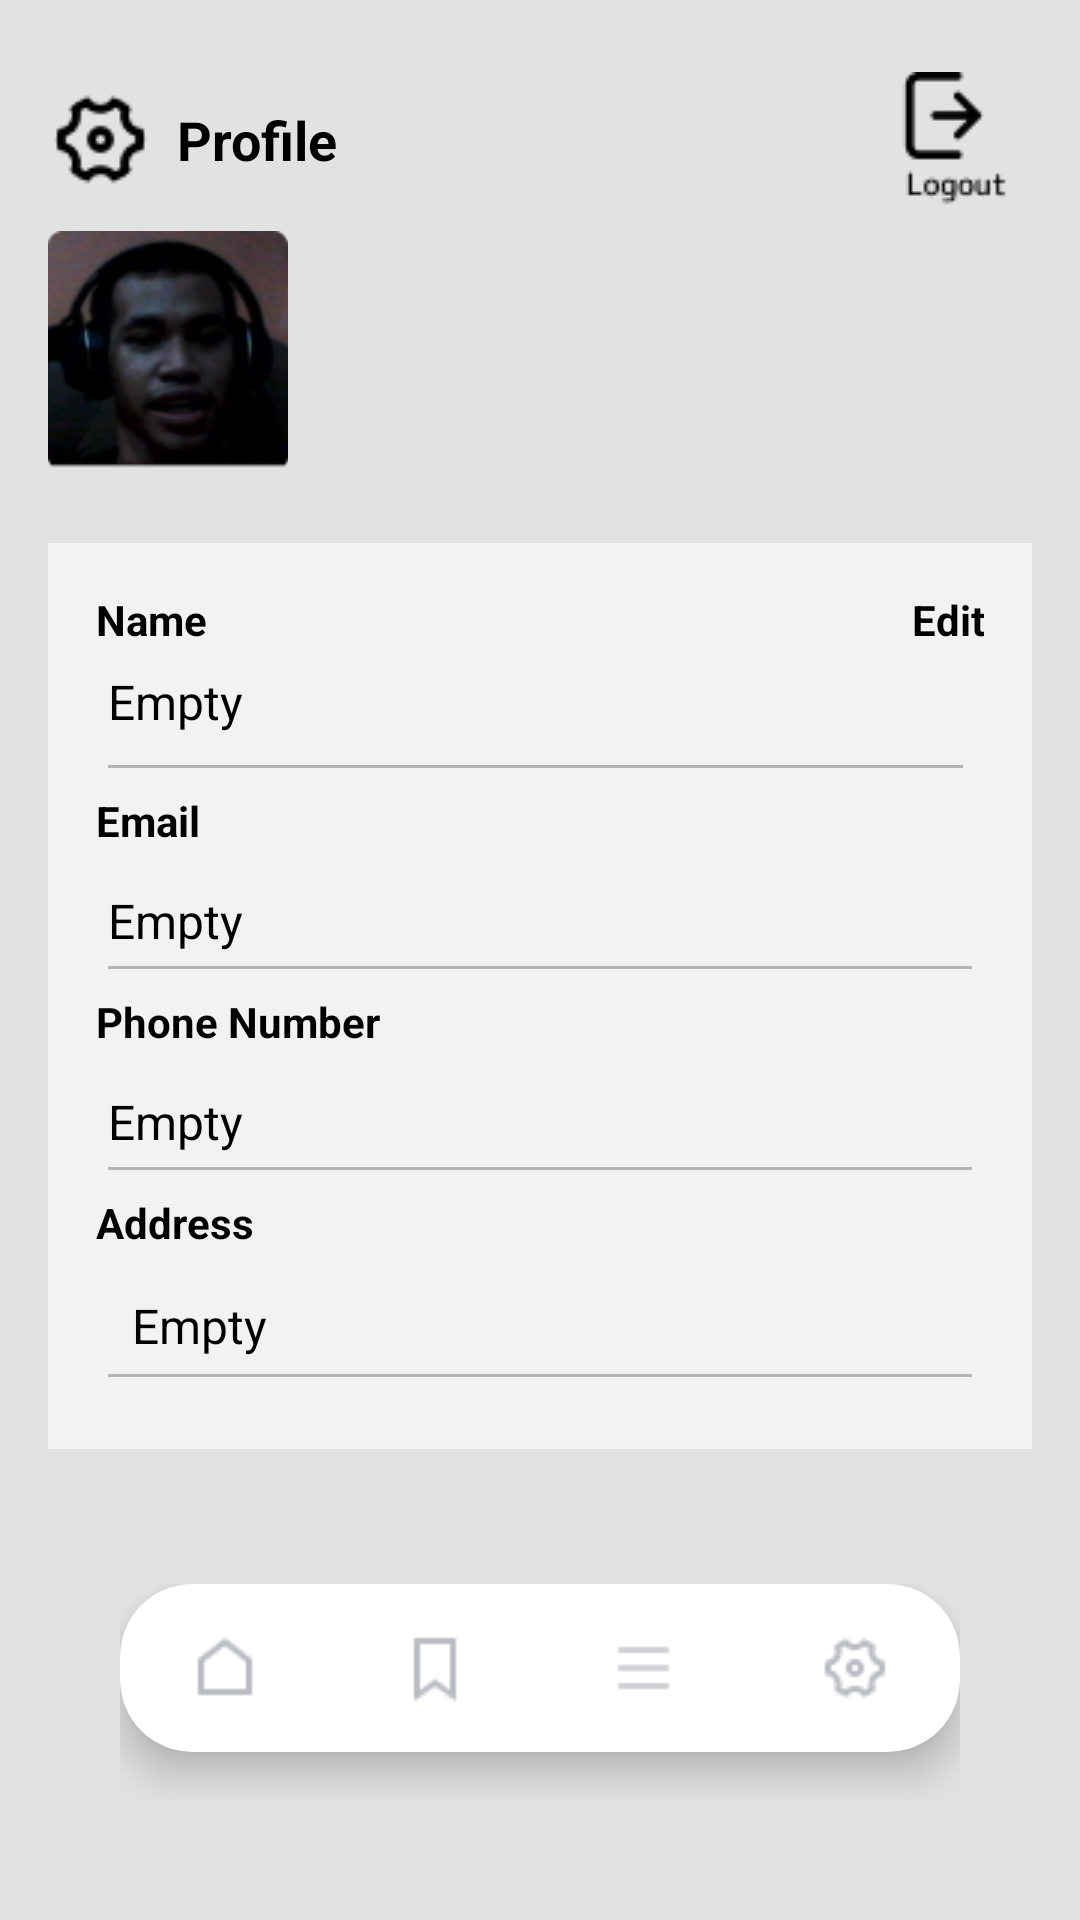

Icon click points for this 1080*1920 phone screenshot, format (x,y):
Settings: (855,1668)
